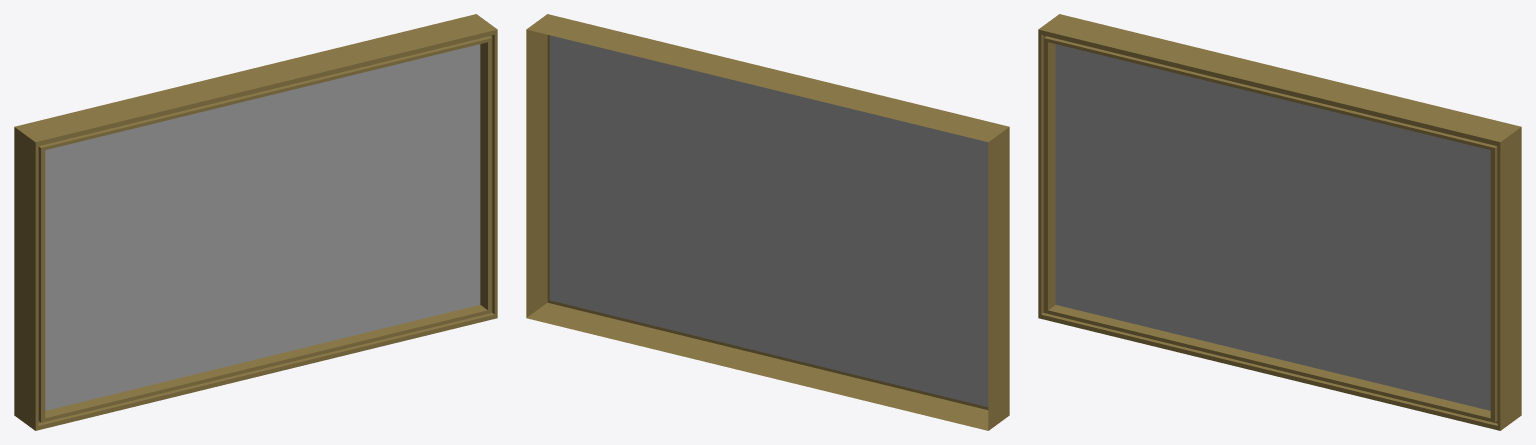
The model's file is Marco_Horizontal.fbx.
The picture shows the model from 3 angles, left to right: view 1: azimuth 30°, elevation 25°; view 2: azimuth 150°, elevation 25°; view 3: azimuth 330°, elevation 25°; orthographic projection.
Parts seen in each view (by area): view 1: MarcoHorizontal; view 2: MarcoHorizontal; view 3: MarcoHorizontal.
Boxes of the visible parts, x1,y1,x2,y2 form: MarcoHorizontal: (14, 14, 497, 430); MarcoHorizontal: (526, 14, 1009, 430); MarcoHorizontal: (1038, 14, 1521, 430).
Size of the model in its own units: 2.87 by 1.71 by 0.2279.
